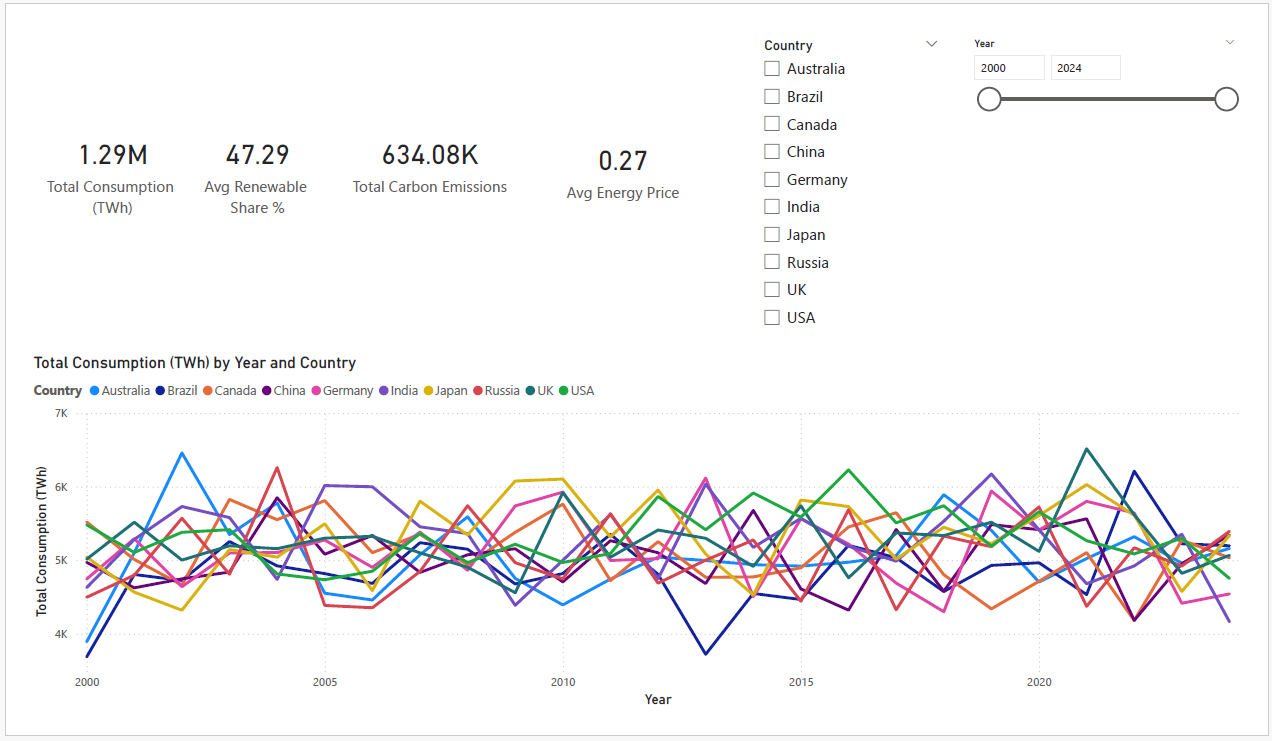

The page's visual inventory and layout, read from the dashboard file:
{"tool":"powerbi","page":{"name":"Overview","canvas":[1280,720],"ordinal":0},"visuals":[{"type":"card","fields":{"Values":["global_energy_consumption.Total Consumption (TWh)"]},"box":[0,0,176.4,285.8],"z":0},{"type":"card","fields":{"Values":["global_energy_consumption.Avg Renewable Share %"]},"box":[160.4,0,160.4,285.8],"z":1},{"type":"card","fields":{"Values":["global_energy_consumption.Total Carbon Emissions"]},"box":[320.8,0,201.2,285.8],"z":2},{"type":"card","fields":{"Values":["global_energy_consumption.Avg Energy Price"]},"box":[536.6,0,175,298.9],"z":3},{"type":"lineChart","fields":{"Category":["global_energy_consumption.Year"],"Y":["global_energy_consumption.Total Consumption (TWh)"],"Series":["global_energy_consumption.Country"]},"box":[0,342.7,1280.3,377.7],"z":4},{"type":"slicer","fields":{"Values":["global_energy_consumption.Country"]},"box":[759.7,5.8,208.5,322.3],"z":5},{"type":"slicer","fields":{"Values":["global_energy_consumption.Year"]},"box":[981.4,5.8,298.9,121],"z":6}]}

Visuals, with their boxes on the page's 1280x720 design canvas (x1, y1, x2, y2). These are canvas units, not pixel positions in the 1272x741 screenshot, which may show the page scaled, cropped or inside an application window:
card - global_energy_consumption.Total Consumption (TWh): {"left": 0, "top": 0, "right": 176, "bottom": 286}
card - global_energy_consumption.Avg Renewable Share %: {"left": 160, "top": 0, "right": 321, "bottom": 286}
card - global_energy_consumption.Total Carbon Emissions: {"left": 321, "top": 0, "right": 522, "bottom": 286}
card - global_energy_consumption.Avg Energy Price: {"left": 537, "top": 0, "right": 712, "bottom": 299}
lineChart - global_energy_consumption.Year x global_energy_consumption.Total Consumption (TWh): {"left": 0, "top": 343, "right": 1280, "bottom": 720}
slicer - global_energy_consumption.Country: {"left": 760, "top": 6, "right": 968, "bottom": 328}
slicer - global_energy_consumption.Year: {"left": 981, "top": 6, "right": 1280, "bottom": 127}
